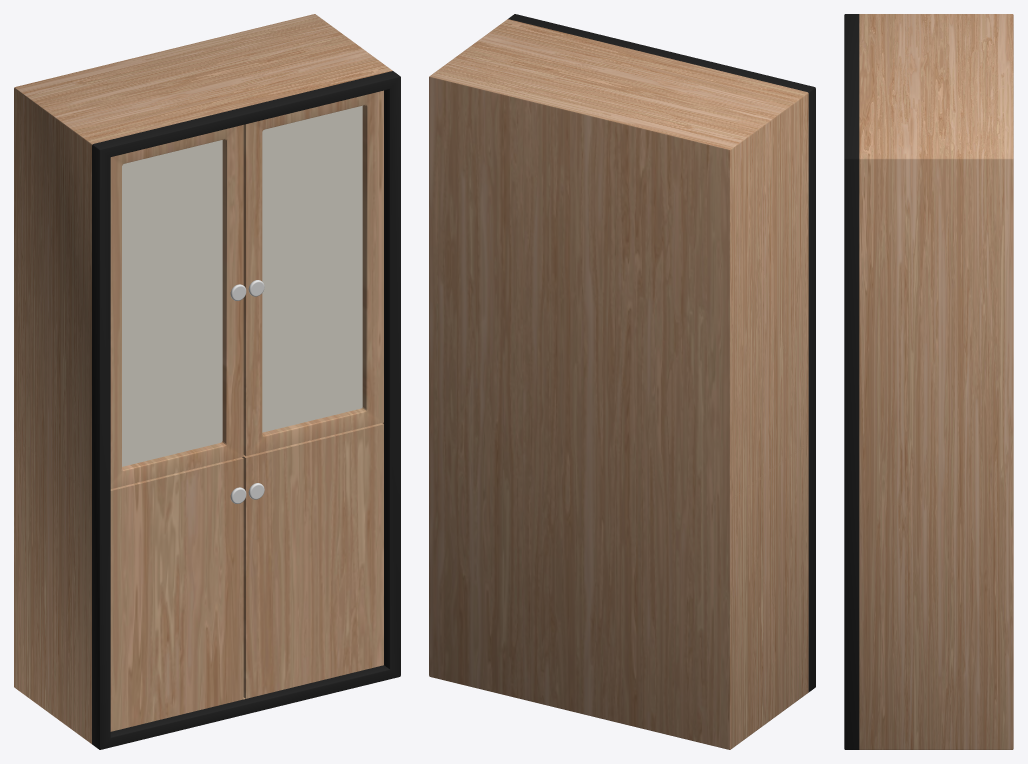
File: AttachedCabinetWithFurniture.fbx
3 views of the same model, side by side, from view 1: azimuth 30°, elevation 25°; view 2: azimuth 150°, elevation 25°; view 3: azimuth 270°, elevation 25° (orthographic).
Visible parts, largest first — view 1: Cube, Cube.001; view 2: Cube; view 3: Cube.
Part boxes in pixels (x1,y1,x2,y2): Cube: (14, 14, 400, 749); Cube.001: (122, 105, 362, 466); Cube: (429, 14, 815, 749); Cube: (844, 14, 1013, 749).
Bounding box in the file's own units: 90.04 × 171 × 44.42.
4 materials, 1 textured.
